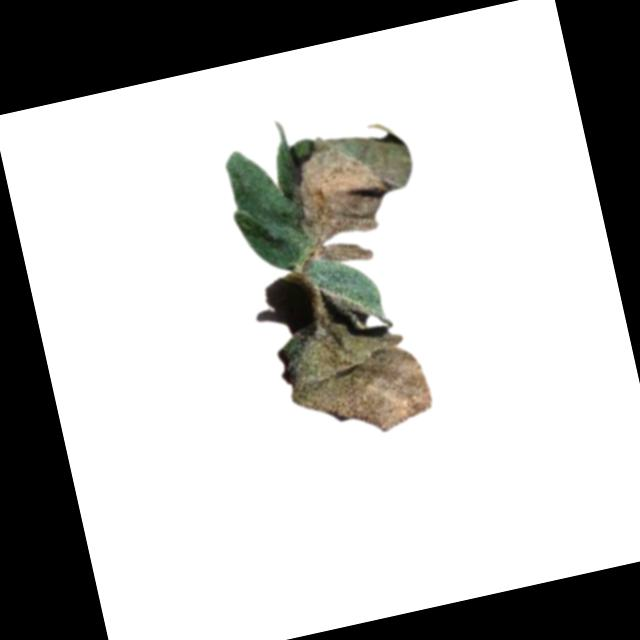Late_blight: (270, 117, 431, 275), (272, 304, 437, 453)
